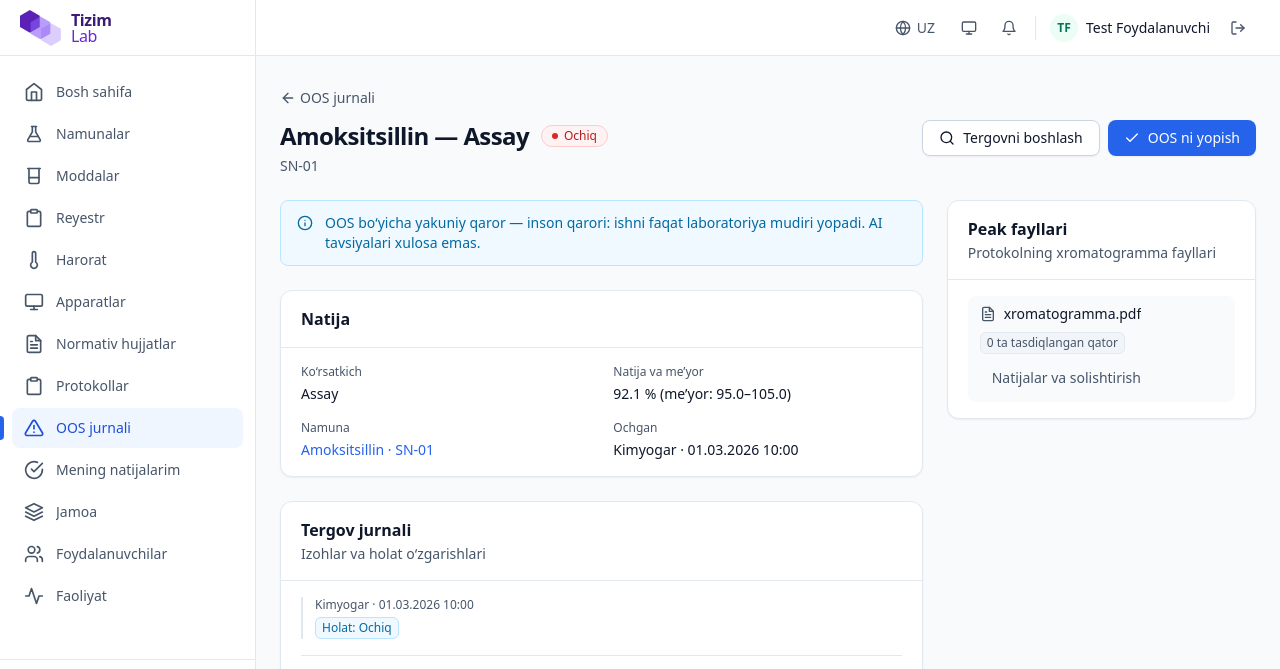
it: P19: peak natijalari va tarix bilan solishtirish › no_history — "Taqqoslash uchun tarixiy tasdiqlangan peaklar yo‘q"
Click the button "Natijalar va solishtirish".
click(1066, 378)  # box [980, 362, 1153, 394]
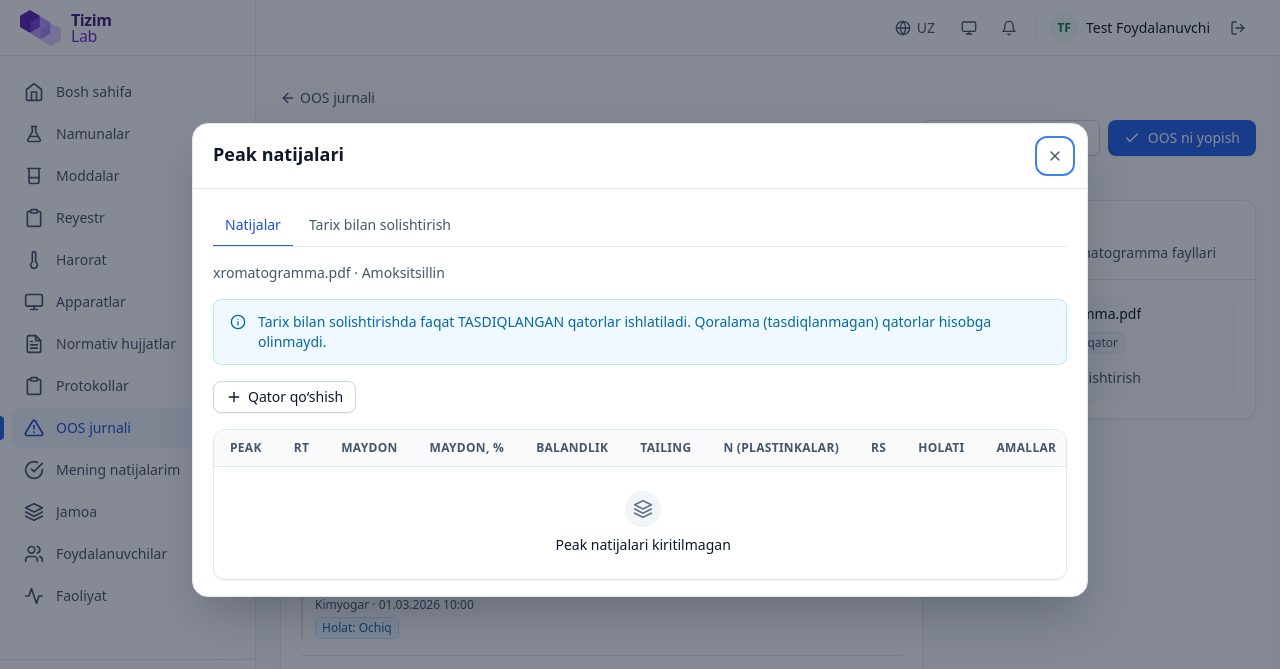
Click the tab "Tarix bilan solishtirish".
click(380, 226)  # box [297, 205, 463, 247]
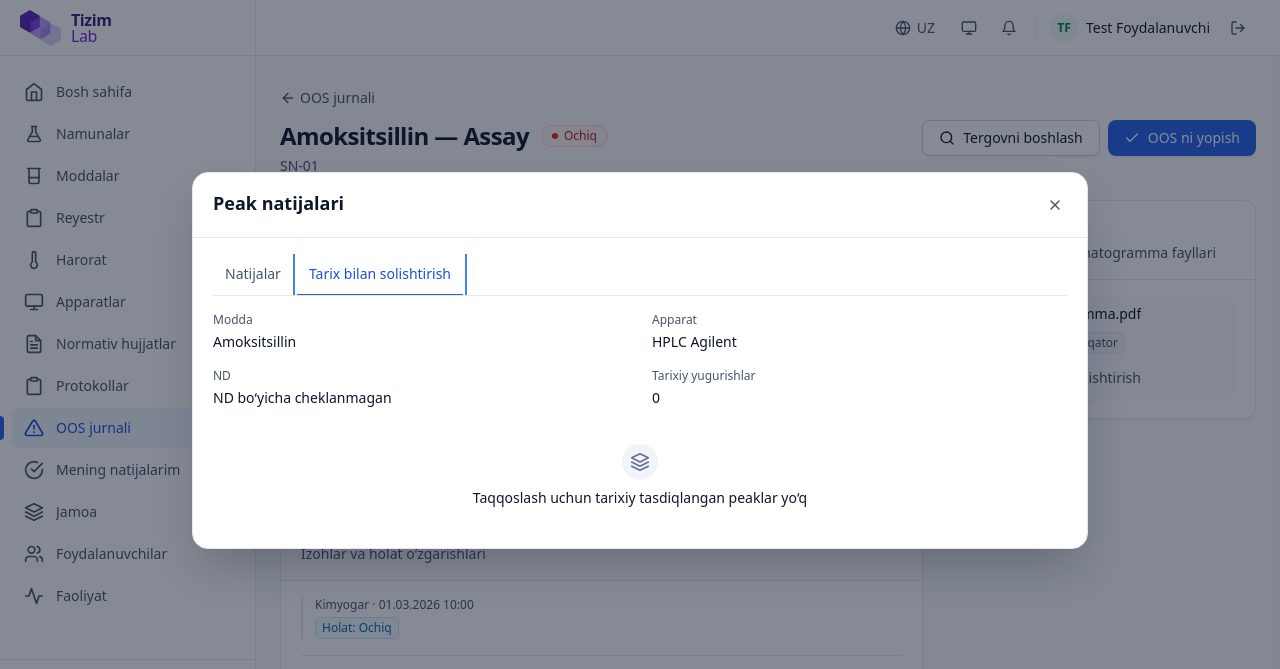
Check: the text "Taqqoslash uchun tarixiy tasdiqlangan peaklar yo‘q" is shown, box [473, 488, 807, 508]
